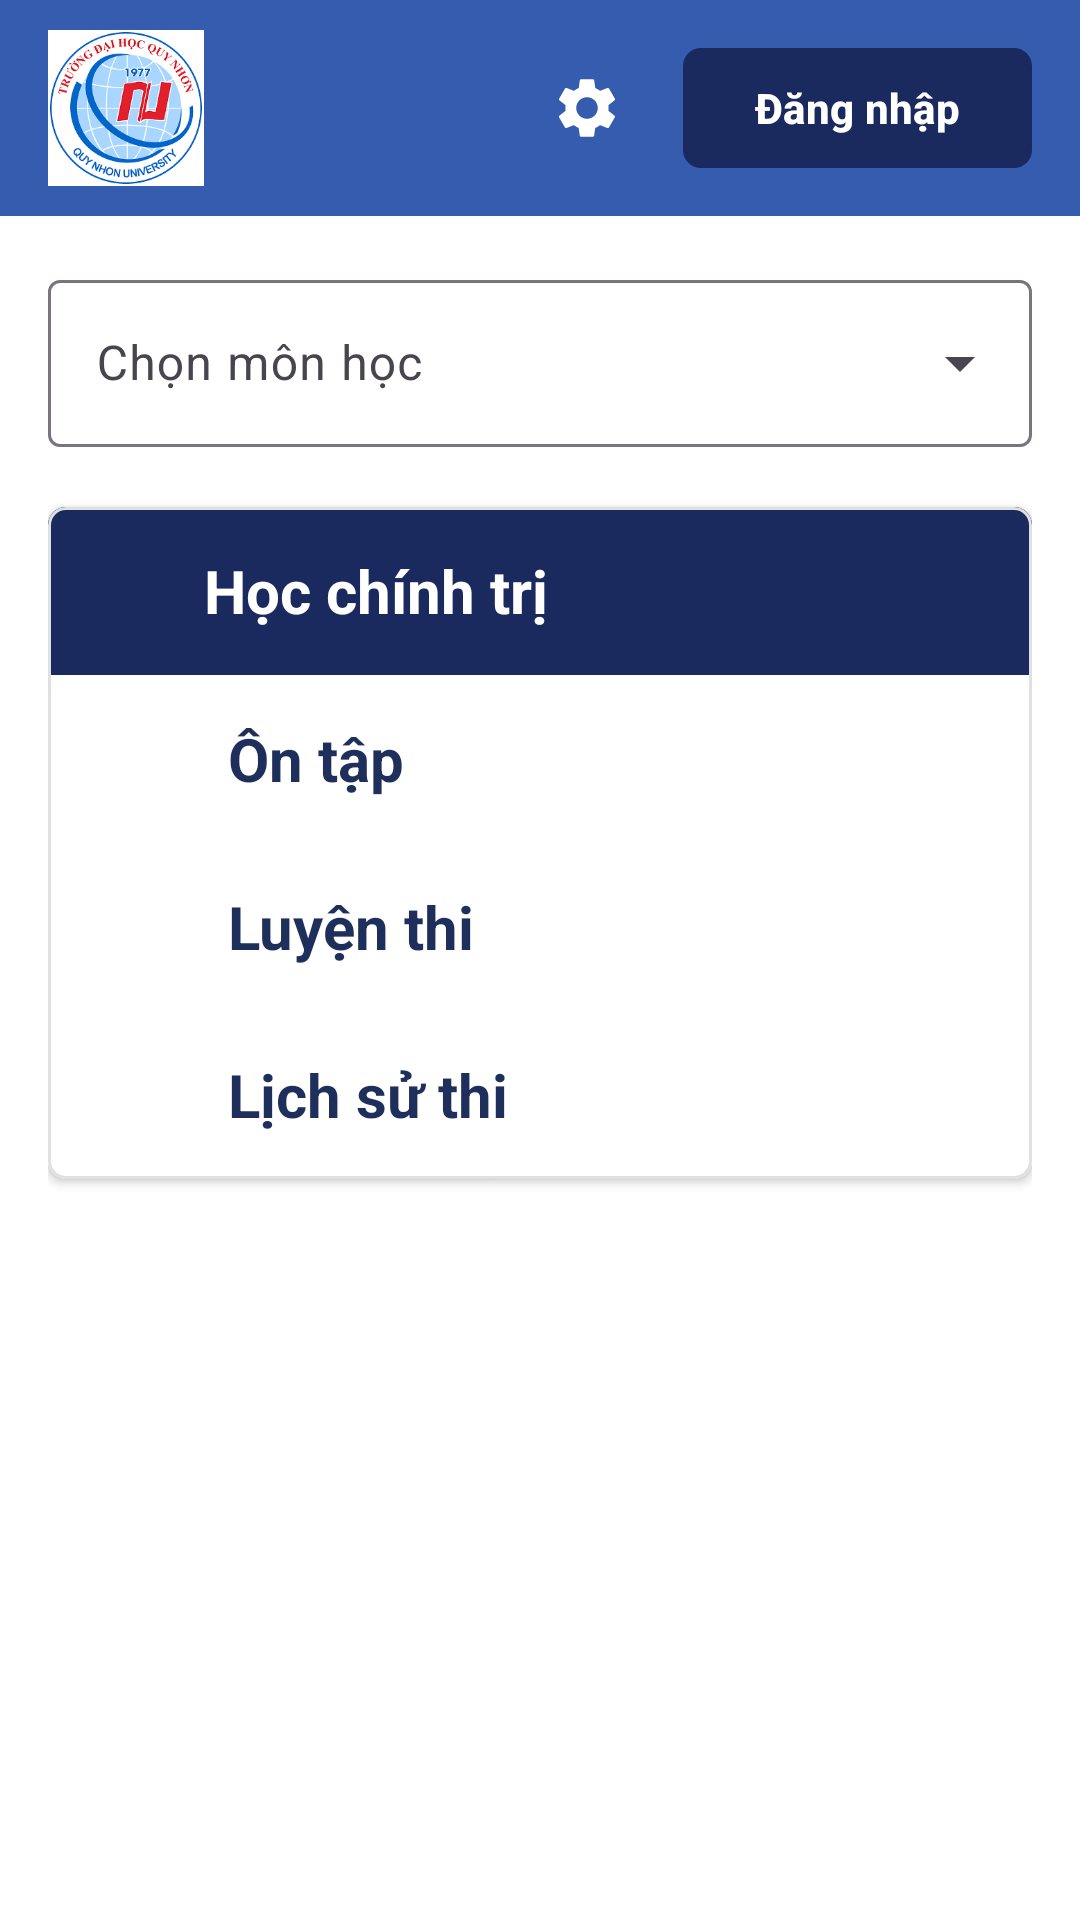

Icon click points for this 1080 x 1920 phone screenshot, format point (x, y):
Cài đặt: point (587, 108)
